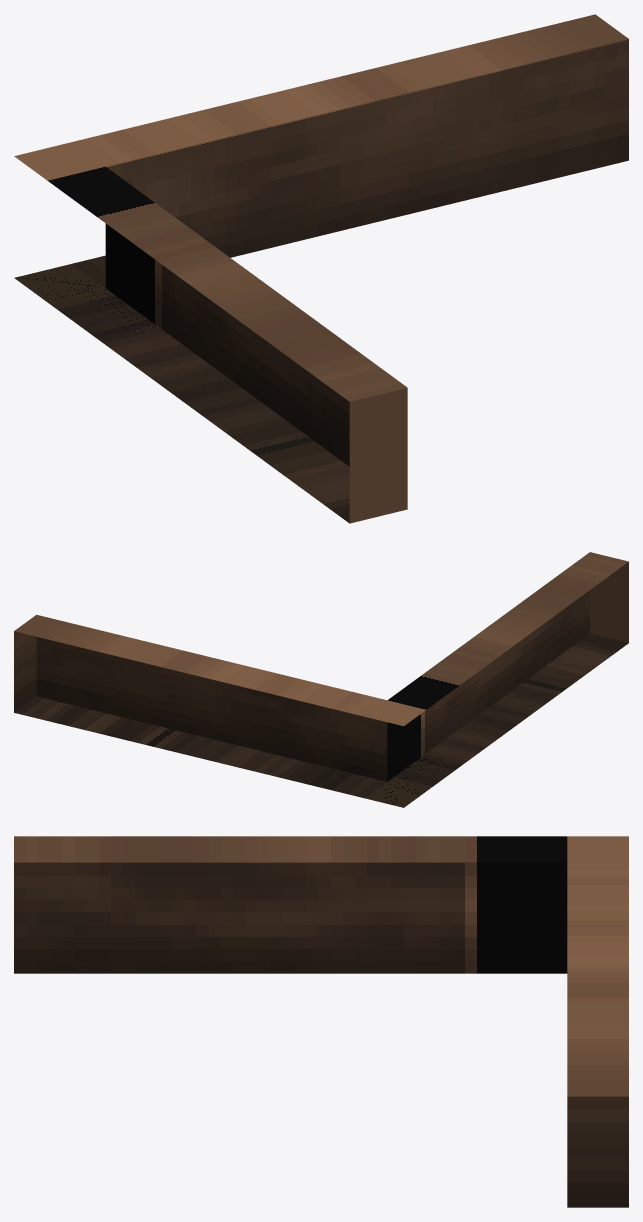
The model's file is floor_beam_inner_corner_1.glb.
3 views of the same model, one above another, from view 1: azimuth 30°, elevation 25°; view 2: azimuth 150°, elevation 25°; view 3: azimuth 270°, elevation 25° (orthographic). The views are drawn at different scales.
Parts seen in each view (by area): view 1: floor_beam_inner_corner_1; view 2: floor_beam_inner_corner_1; view 3: floor_beam_inner_corner_1.
Part boxes in pixels (x1,y1,x2,y2): floor_beam_inner_corner_1: [14, 14, 628, 523]; floor_beam_inner_corner_1: [14, 552, 628, 807]; floor_beam_inner_corner_1: [14, 836, 628, 1207].
Size of the model in its own units: 1 by 0.2 by 1.
1 material, 1 textured.
